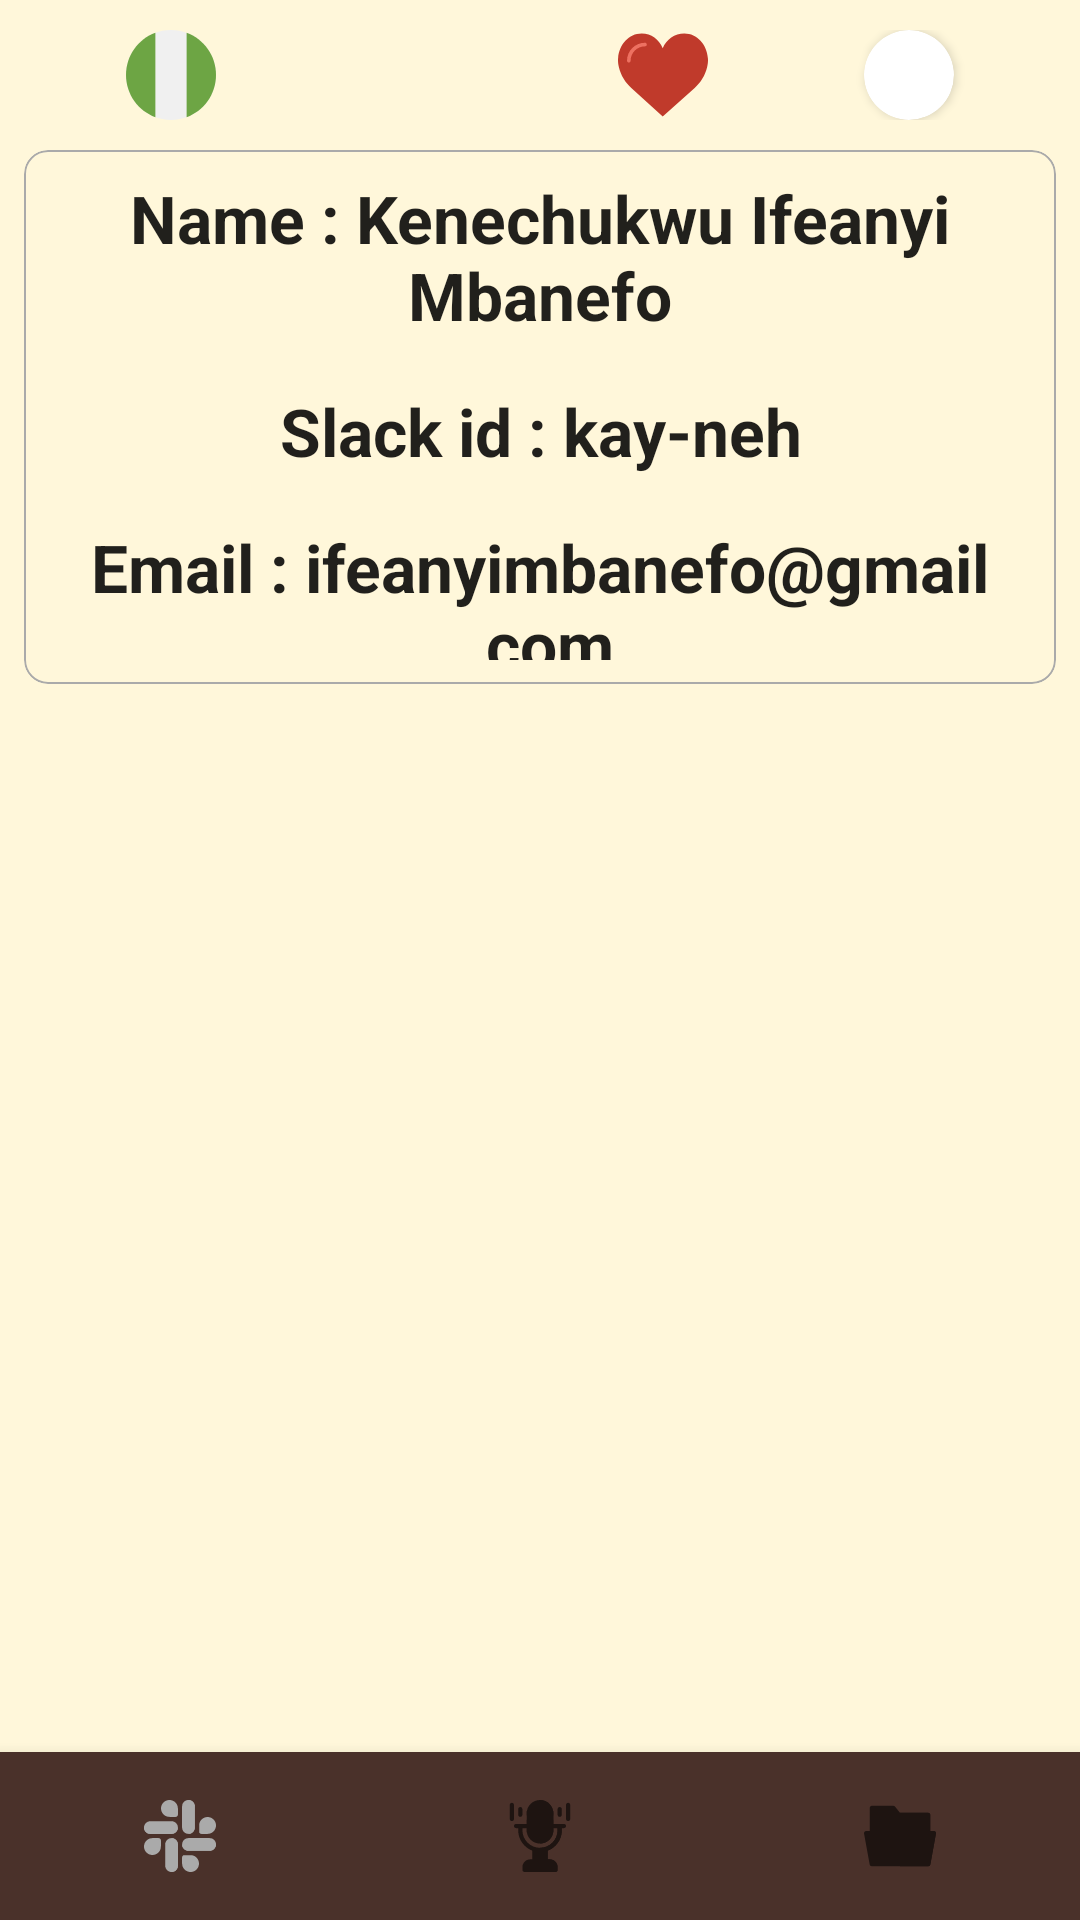

Named icons in this screenshot (1080 x 1920) and their centers, point (x, y):
heart: point (663, 75)
nigeria: point (171, 75)
